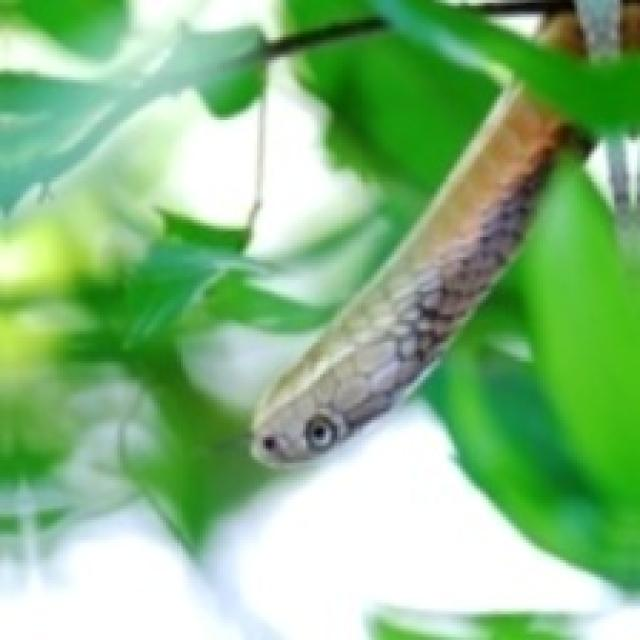king cobra: (251, 86, 571, 463)
